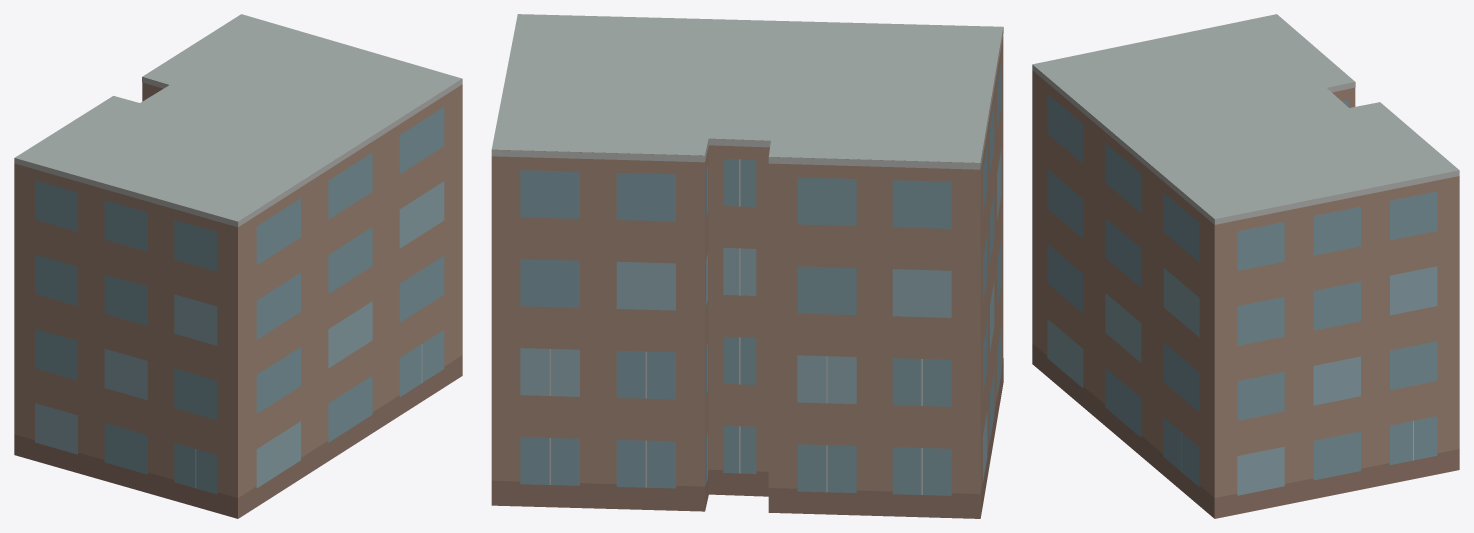
File: survey-upis-32736716.glb
3 renders of one model, left to right at view 1: azimuth 30°, elevation 25°; view 2: azimuth 150°, elevation 25°; view 3: azimuth 270°, elevation 25°, orthographic. The views are drawn at different scales.
Parts seen in each view (by area): view 1: survey-upis-32736716.tmp; view 2: survey-upis-32736716.tmp; view 3: survey-upis-32736716.tmp.
Boxes of the visible parts, x1=… form: survey-upis-32736716.tmp: x1=14, y1=14, x2=462, y2=518; survey-upis-32736716.tmp: x1=491, y1=14, x2=1003, y2=518; survey-upis-32736716.tmp: x1=1032, y1=14, x2=1459, y2=518.
Size of the model in its own units: 18.96 by 12.9 by 16.69.
